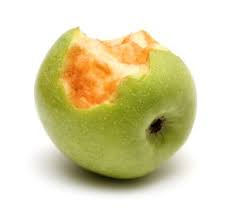damaged_apple: (38, 26, 196, 179)
